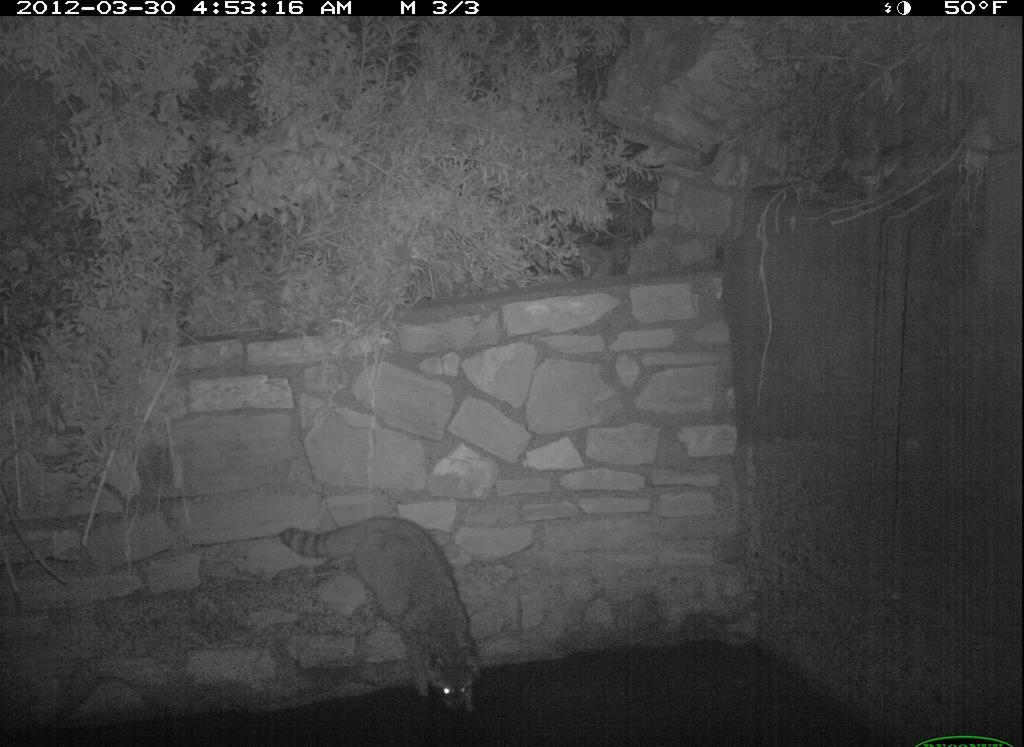raccoon: (285, 513, 487, 728)
